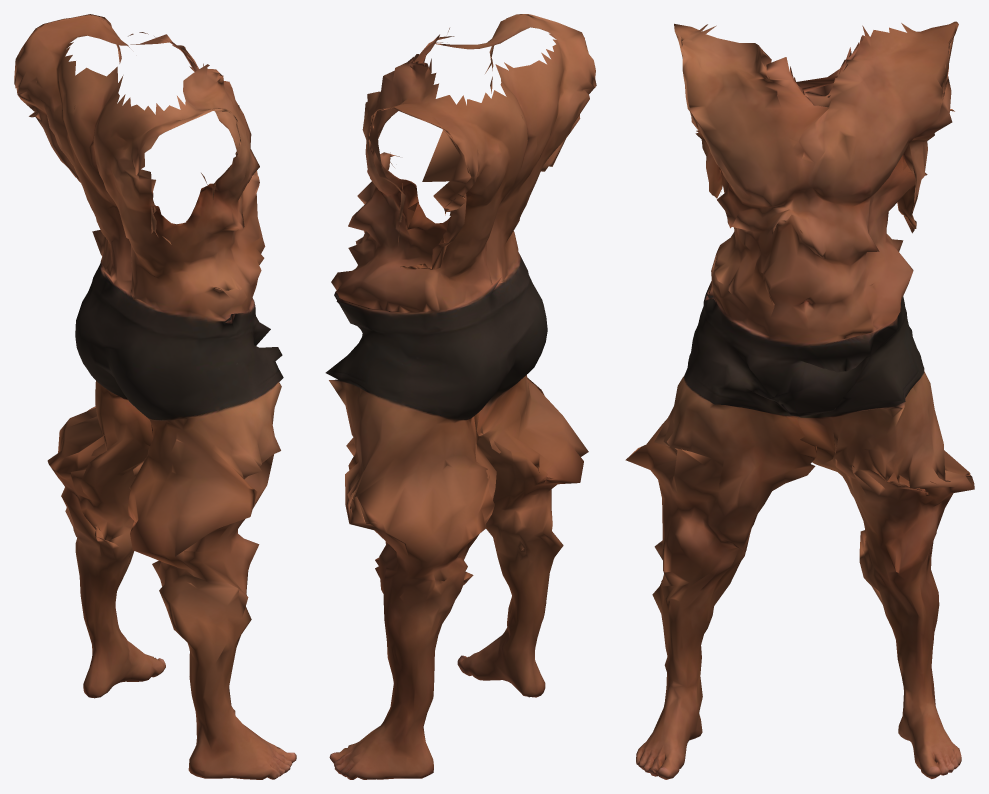
File: base_body_peasant_only.glb
3 renders of one model, left to right at view 1: azimuth 30°, elevation 25°; view 2: azimuth 150°, elevation 25°; view 3: azimuth 270°, elevation 25°, orthographic. The views are drawn at different scales.
Parts seen in each view (by area): view 1: base_body; view 2: base_body; view 3: base_body.
Part boxes in pixels (<box>): base_body: <box>14,14,296,779</box>; base_body: <box>325,14,596,779</box>; base_body: <box>625,21,974,779</box>.
Size of the model in its own units: 0.2191 by 0.8186 by 0.358.
Materials: 1 (1 with a texture image).
